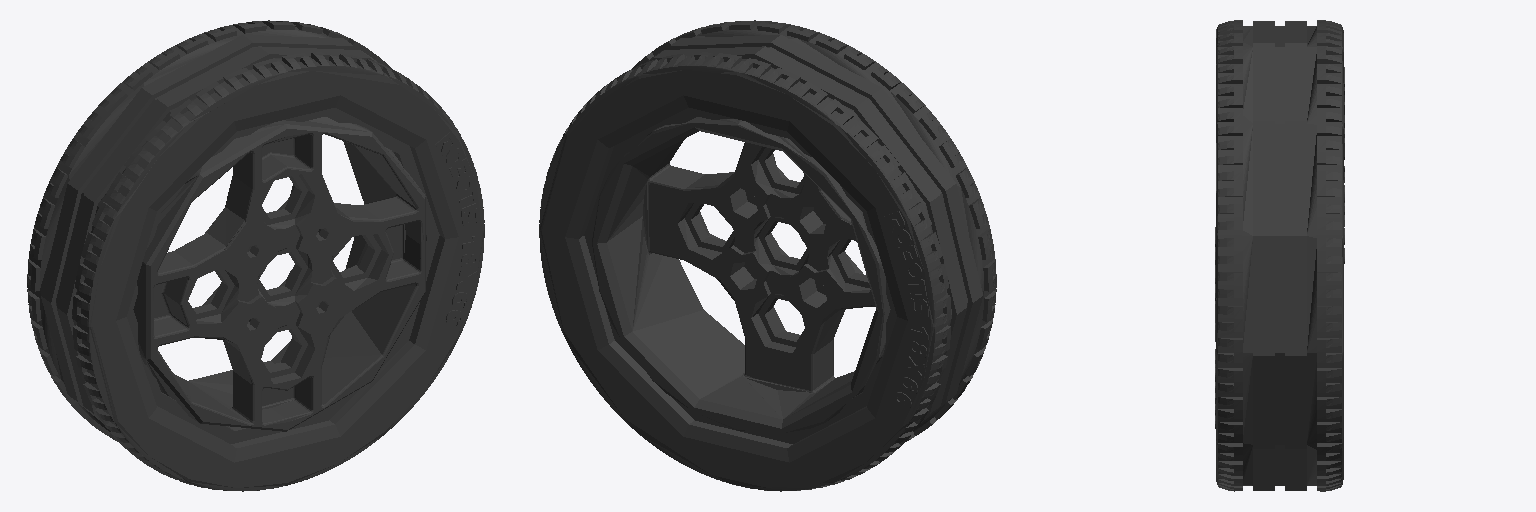
robot.urdf — turtlebot3_burger:
<?xml version="1.0" ?>
<robot name="turtlebot3_burger"
  xmlns:xacro="http://ros.org/wiki/xacro">
  <!-- <xacro:include filename="$(find turtlebot3_description)/urdf/common_properties.urdf"/> -->

  <!-- Init colour -->
  <material name="black">
      <color rgba="0.0 0.0 0.0 1.0"/>
  </material>

  <material name="dark">
    <color rgba="0.3 0.3 0.3 1.0"/>
  </material>

  <material name="light_black">
    <color rgba="0.4 0.4 0.4 1.0"/>
  </material>

  <material name="blue">
    <color rgba="0.0 0.0 0.8 1.0"/>
  </material>

  <material name="green">
    <color rgba="0.0 0.8 0.0 1.0"/>
  </material>

  <material name="grey">
    <color rgba="0.5 0.5 0.5 1.0"/>
  </material>

  <material name="orange">
    <color rgba="1.0 0.4235 0.0392 1.0"/>
  </material>

  <material name="brown">
    <color rgba="0.8706 0.8118 0.7647 1.0"/>
  </material>

  <material name="red">
    <color rgba="0.8 0.0 0.0 1.0"/>
  </material>

  <material name="white">
    <color rgba="1.0 1.0 1.0 1.0"/>
  </material>

  <link name="base_footprint"/>

  <joint name="base_joint" type="fixed">
    <parent link="base_footprint"/>
    <child link="base_link"/>
    <origin xyz="0.0 0.0 0.010" rpy="0 0 0"/>
  </joint>

  <link name="base_link">
    <visual>
      <origin xyz="-0.032 0 0.0" rpy="0 0 0"/>
      <geometry>
        <mesh filename="package://turtlebot3_gazebo/models/turtlebot3_burger/meshes/burger_base_v2_single.dae" scale="0.001 0.001 0.001"/>
      </geometry>
      <material name="light_black"/>
    </visual>

    <collision>
      <origin xyz="-0.032 0 0.070" rpy="0 0 0"/>
      <geometry>
        <box size="0.140 0.140 0.143"/>
      </geometry>
    </collision>

    <inertial>
      <origin xyz="0 0 0" rpy="0 0 0"/>
      <mass value="8.2573504e-01"/>
      <inertia ixx="2.2124416e-03" ixy="-1.2294101e-05" ixz="3.4938785e-05" iyy="2.1193702e-03" iyz="-5.0120904e-06" izz="2.0064271e-03" />
    </inertial>
  </link>

  <joint name="wheel_left_joint" type="continuous">
    <parent link="base_link"/>
    <child link="wheel_left_link"/>
    <origin xyz="0.0 0.08 0.023" rpy="-1.57 0 0"/>
    <axis xyz="0 0 1"/>
  </joint>

  <link name="wheel_left_link">
    <visual>
      <origin xyz="0 0 0" rpy="1.57 0 0"/>
      <geometry>
        <mesh filename="package://turtlebot3_gazebo/models/turtlebot3_burger/meshes/left_tire_v2.dae" scale="0.001 0.001 0.001"/>
      </geometry>
      <material name="dark"/>
    </visual>

    <collision>
      <origin xyz="0 0 0" rpy="0 0 0"/>
      <geometry>
        <cylinder length="0.018" radius="0.033"/>
      </geometry>
    </collision>

    <inertial>
      <origin xyz="0 0 0" />
      <mass value="2.8498940e-02" />
      <inertia ixx="1.1175580e-05" ixy="-4.2369783e-11" ixz="-5.9381719e-09" iyy="1.1192413e-05" iyz="-1.4400107e-11" izz="2.0712558e-05" />
    </inertial>
  </link>

  <joint name="wheel_right_joint" type="continuous">
    <parent link="base_link"/>
    <child link="wheel_right_link"/>
    <origin xyz="0.0 -0.080 0.023" rpy="-1.57 0 0"/>
    <axis xyz="0 0 1"/>
  </joint>

  <link name="wheel_right_link">
    <visual>
      <origin xyz="0 0 0" rpy="1.57 0 0"/>
      <geometry>
        <mesh filename="package://turtlebot3_gazebo/models/turtlebot3_burger/meshes/right_tire_v2.dae" scale="0.001 0.001 0.001"/>
      </geometry>
      <material name="dark"/>
    </visual>

    <collision>
      <origin xyz="0 0 0" rpy="0 0 0"/>
      <geometry>
        <cylinder length="0.018" radius="0.033"/>
      </geometry>
    </collision>

    <inertial>
      <origin xyz="0 0 0" />
      <mass value="2.8498940e-02" />
      <inertia ixx="1.1175580e-05" ixy="-4.2369783e-11" ixz="-5.9381719e-09" iyy="1.1192413e-05" iyz="-1.4400107e-11" izz="2.0712558e-05" />
    </inertial>
  </link>

  <joint name="caster_back_joint" type="fixed">
    <parent link="base_link"/>
    <child link="caster_back_link"/>
    <origin xyz="-0.081 0 -0.004" rpy="-1.57 0 0"/>
  </joint>

  <link name="caster_back_link">
    <collision>
      <origin xyz="0 0.001 0" rpy="0 0 0"/>
      <geometry>
        <box size="0.030 0.009 0.020"/>
      </geometry>
    </collision>

    <inertial>
      <origin xyz="0 0 0" />
      <mass value="0.005" />
      <inertia ixx="0.001" ixy="0.0" ixz="0.0" iyy="0.001" iyz="0.0" izz="0.001" />
    </inertial>
  </link>

  <joint name="imu_joint" type="fixed">
    <parent link="base_link"/>
    <child link="imu_link"/>
    <origin xyz="-0.032 0 0.068" rpy="0 0 0"/>
  </joint>

  <link name="imu_link"/>

  <joint name="scan_joint" type="fixed">
    <parent link="base_link"/>
    <child link="base_scan"/>
    <origin xyz="-0.032 0 0.172" rpy="0 0 0"/>
  </joint>

  <link name="base_scan">
    <visual>
      <origin xyz="0 0 0.0" rpy="0 0 0"/>
      <geometry>
        <mesh filename="package://turtlebot3_gazebo/models/turtlebot3_burger/meshes/lds_v2_single.dae" scale="0.001 0.001 0.001"/>
      </geometry>
      <material name="dark"/>
    </visual>

    <collision>
      <origin xyz="0.015 0 -0.0065" rpy="0 0 0"/>
      <geometry>
        <cylinder length="0.0315" radius="0.055"/>
      </geometry>
    </collision>

    <inertial>
      <mass value="0.114" />
      <origin xyz="0 0 0" />
      <inertia ixx="0.001" ixy="0.0" ixz="0.0" iyy="0.001" iyz="0.0" izz="0.001" />
    </inertial>
  </link>

</robot>

--- Render facts (derived) ---
Views: 3 orthographic renders of the robot side by side, from view 1: azimuth 30°, elevation 25°; view 2: azimuth 150°, elevation 25°; view 3: azimuth 270°, elevation 25°.
Robot: turtlebot3_burger — 7 links, 6 joints (2 continuous, 4 fixed); root link base_footprint; default pose: every joint at zero.
Visible links, largest first — view 1: wheel_left_link; view 2: wheel_left_link; view 3: wheel_left_link.
Link boxes in pixels (<box>): wheel_left_link: <box>27,20,484,491</box>; wheel_left_link: <box>539,20,996,491</box>; wheel_left_link: <box>1215,20,1344,491</box>.
Size in the robot's own frame: 0.066 by 0.0182 by 0.066 metres.
1 mesh visuals loaded from 4 distinct referenced files (1 Collada DAE); not drawn: 3 (reference not matched to a file when rendering).